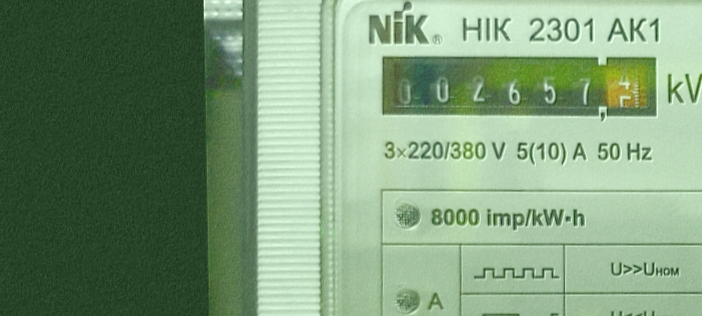0: (396, 77, 414, 105), (434, 74, 450, 104)
2: (470, 74, 487, 103)
4: (617, 65, 632, 90)
5: (542, 75, 558, 106), (618, 94, 633, 108)
6: (507, 76, 522, 106)
7: (578, 75, 593, 107)
screen: (372, 41, 669, 133)
